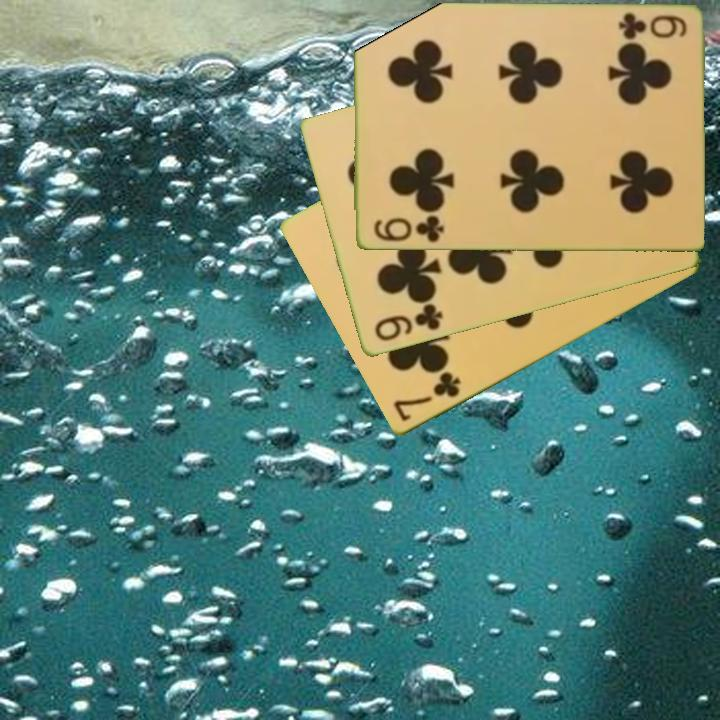6c: (369, 212, 446, 246), (615, 10, 689, 42)
7c: (389, 369, 464, 425)
9c: (370, 301, 446, 345)
